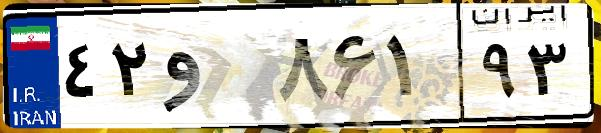1: (385, 28, 445, 110)
2: (110, 28, 158, 98)
3: (525, 38, 570, 115)
4: (57, 26, 110, 100)
6: (330, 28, 385, 110)
8: (270, 28, 330, 110)
9: (475, 38, 525, 113)
و: (158, 20, 270, 120)
